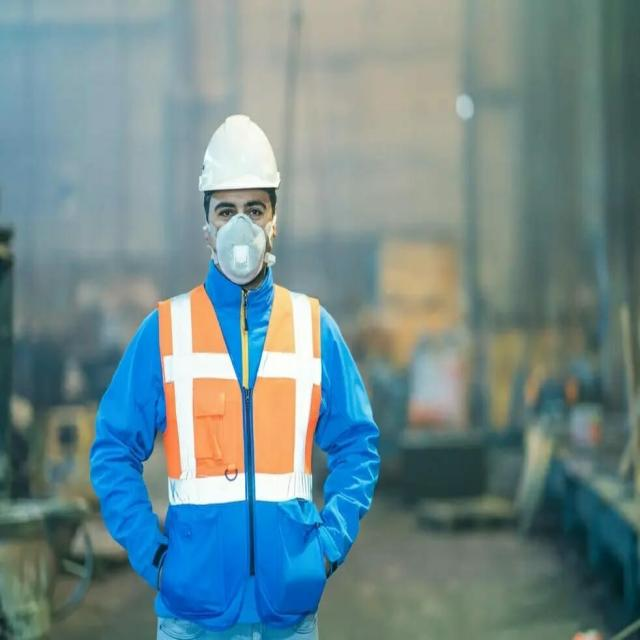helmet: (198, 112, 281, 200)
no-goggles: (200, 179, 280, 230)
vest: (154, 278, 330, 519)
